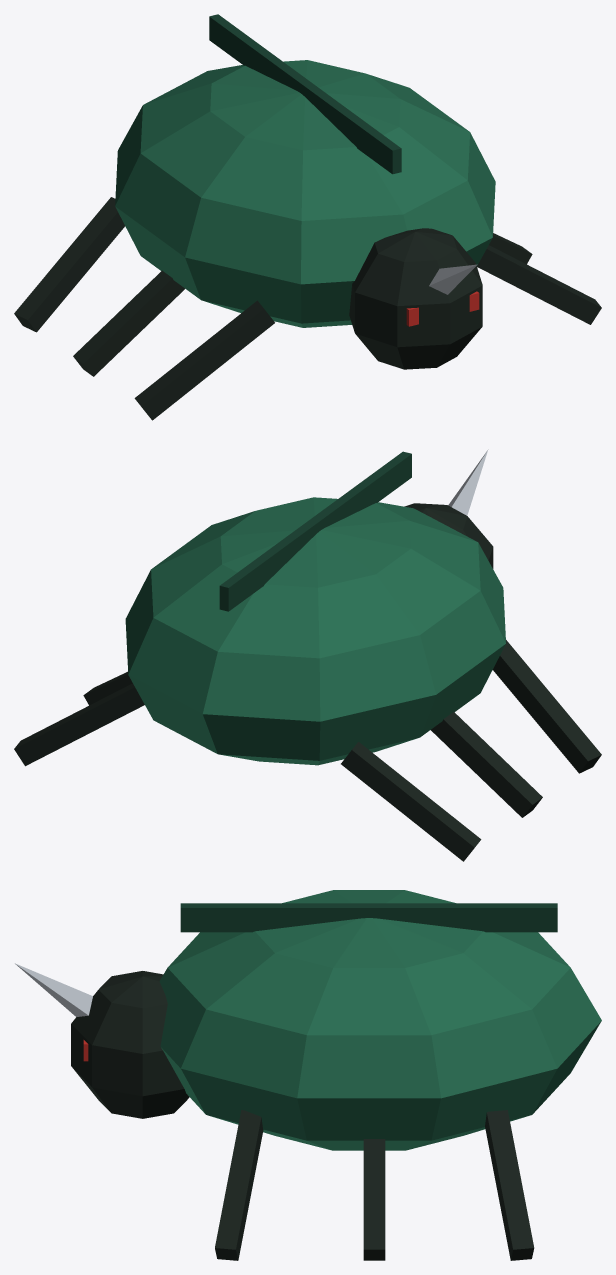
File: e_beetle.fbx
3 renders of one model, top to bottom at view 1: azimuth 30°, elevation 25°; view 2: azimuth 150°, elevation 25°; view 3: azimuth 270°, elevation 25°, orthographic. The views are drawn at different scales.
Visible parts, largest first — view 1: e_beetle_Body; view 2: e_beetle_Body; view 3: e_beetle_Body.
Part boxes in pixels (x1,y1,x2,y2): e_beetle_Body: [14, 14, 601, 420]; e_beetle_Body: [14, 449, 601, 861]; e_beetle_Body: [14, 890, 601, 1260].
Size of the model in its own units: 0.9927 by 0.5062 by 1.09.
